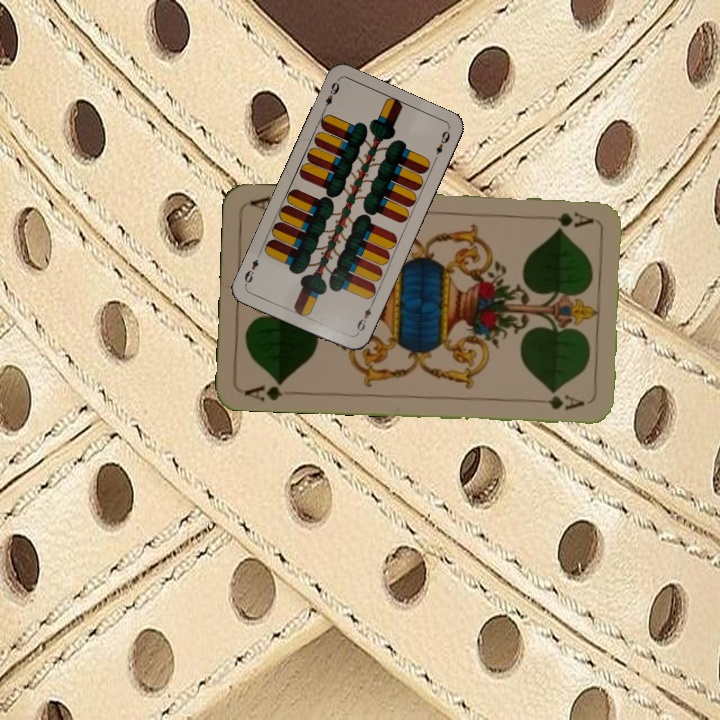E9: (318, 78, 342, 115), (353, 299, 376, 337)
GA: (537, 208, 596, 230), (240, 377, 286, 403)
